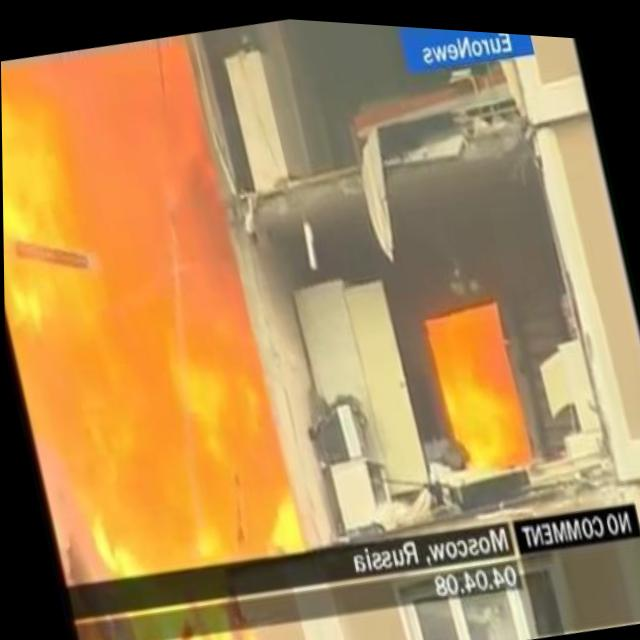fire: (0, 21, 302, 598), (422, 289, 532, 477)
